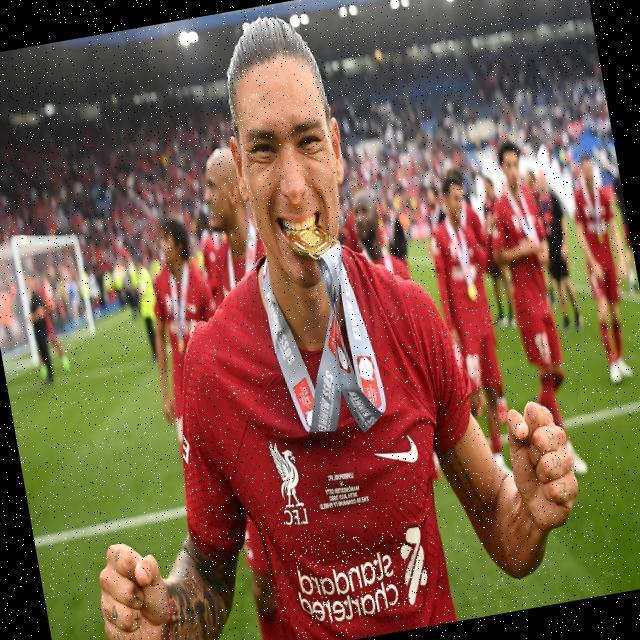Nike: (371, 433, 419, 470)
Standard Chartered: (290, 524, 434, 628)
